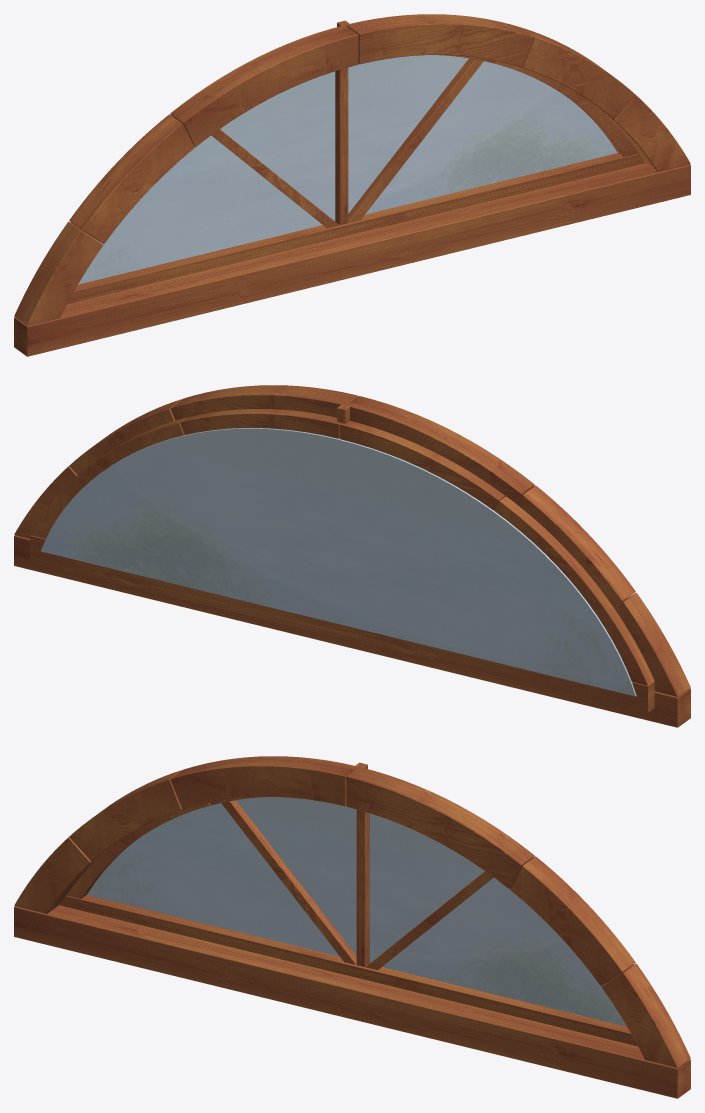
3 views of the same model, one above another, from view 1: azimuth 30°, elevation 25°; view 2: azimuth 150°, elevation 25°; view 3: azimuth 330°, elevation 25° (orthographic).
Visible parts, largest first — view 1: glass, trim_bottom, window_bottom, trim003, trim004, trim002, trim001, trim005, trim006, muttin003, muttin002, window004 (+1 smaller); view 2: glass, window_bottom, trim_bottom, trim003, window001, trim004, trim002, window002, trim001, window003, window004, trim005 (+1 smaller); view 3: glass, trim_bottom, window_bottom, trim004, trim003, trim005, trim006, trim002, trim001, muttin001, muttin002, window001 (+1 smaller).
Part boxes in pixels (x1=…): glass: x1=78, y1=55, x2=617, y2=284; trim_bottom: x1=14, y1=163, x2=690, y2=356; window_bottom: x1=67, y1=153, x2=645, y2=304; trim003: x1=170, y1=25, x2=358, y2=147; trim004: x1=346, y1=14, x2=534, y2=67; trim002: x1=69, y1=114, x2=194, y2=243; trim001: x1=14, y1=221, x2=103, y2=325; trim005: x1=522, y1=28, x2=635, y2=119; trim006: x1=603, y1=95, x2=690, y2=171; muttin003: x1=348, y1=58, x2=483, y2=222; muttin002: x1=335, y1=67, x2=348, y2=224; window004: x1=494, y1=60, x2=638, y2=156; glass: x1=41, y1=428, x2=636, y2=696; window_bottom: x1=30, y1=535, x2=654, y2=712; trim_bottom: x1=14, y1=535, x2=690, y2=727; trim003: x1=347, y1=396, x2=534, y2=504; window001: x1=494, y1=496, x2=654, y2=685; trim004: x1=170, y1=385, x2=358, y2=420; trim002: x1=517, y1=485, x2=635, y2=606; window002: x1=339, y1=420, x2=504, y2=510; trim001: x1=613, y1=592, x2=690, y2=696; window003: x1=179, y1=409, x2=340, y2=438; window004: x1=30, y1=418, x2=185, y2=538; trim005: x1=69, y1=399, x2=181, y2=475; glass: x1=87, y1=797, x2=626, y2=1026; trim_bottom: x1=14, y1=905, x2=690, y2=1098; window_bottom: x1=59, y1=895, x2=637, y2=1046; trim004: x1=346, y1=767, x2=534, y2=889; trim003: x1=170, y1=756, x2=358, y2=809; trim005: x1=510, y1=856, x2=635, y2=985; trim006: x1=601, y1=963, x2=690, y2=1067; trim002: x1=69, y1=770, x2=182, y2=861; trim001: x1=14, y1=837, x2=101, y2=913; muttin001: x1=221, y1=800, x2=356, y2=964; muttin002: x1=356, y1=809, x2=369, y2=966; window001: x1=66, y1=802, x2=210, y2=898.
Bounding box in the file's own units: 57.5 × 20 × 3.15.
Materials: 7 (7 with a texture image).
